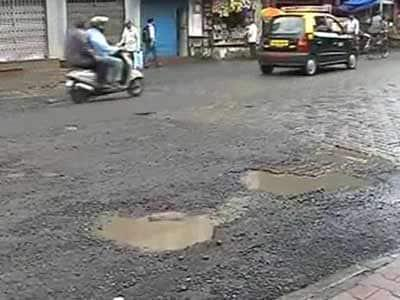Pothole: (88, 200, 222, 249), (229, 164, 385, 194)
